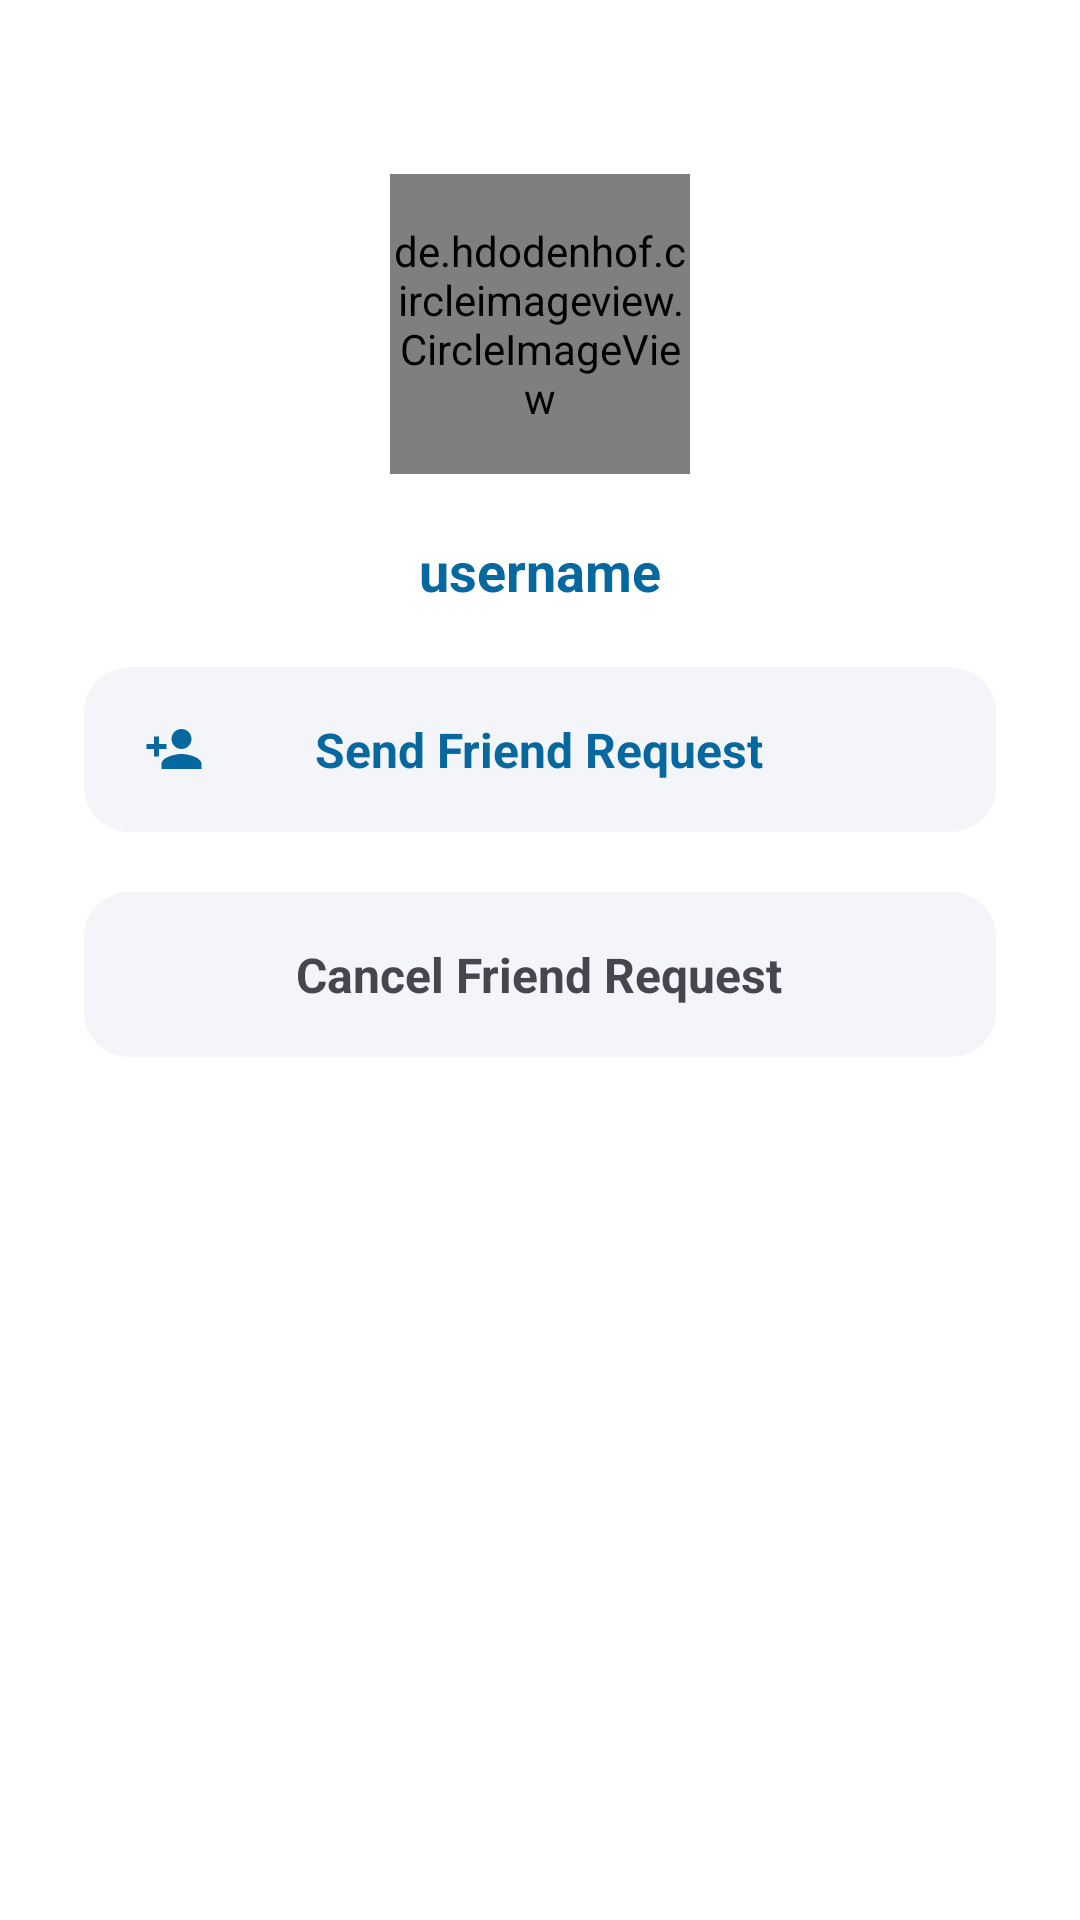

Where to tap for icons on this 1080px×1920px app screen, as (x=x, y=y):
person add: (x=174, y=749)
